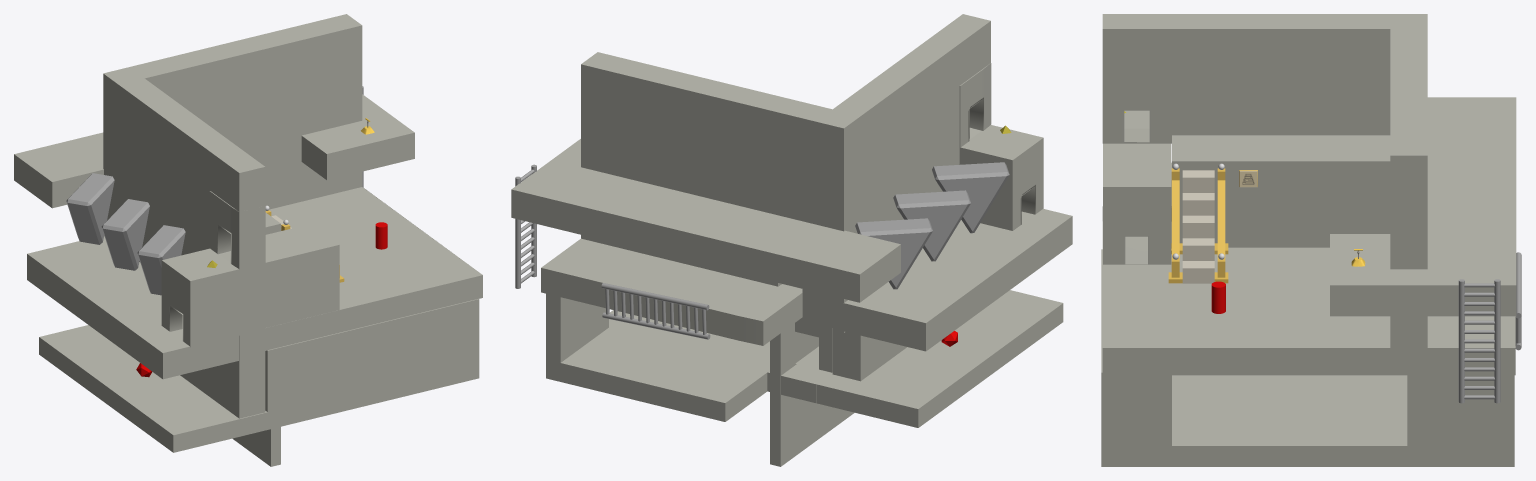
Rendered from stage003.fbx.
3 renders of one model, left to right at view 1: azimuth 30°, elevation 25°; view 2: azimuth 150°, elevation 25°; view 3: azimuth 270°, elevation 25°, orthographic. The views are drawn at different scales.
Parts seen in each view (by area): view 1: pCube11, pCube15, pCube7, pCube17, pCube8, pCube18, pPrism1, pPrism2, pPrism3, pCube1; view 2: pCube11, pCube15, pCube8, pCube17, pCube1, pCube7, pPrism3, pPrism1, pPrism2, pCube18, pCylinder66, pCylinder65; view 3: pCube11, pCube15, pCube8, pCube1, pCube7, pCube18, Stairs001_UV, pCylinder65, pCylinder66, ConnectionPillar_Right, ConnectionPillar_Left, player1.
Boxes of the visible parts, x1,y1,x2,y2 form: pCube11: [103, 14, 482, 418]; pCube15: [39, 298, 479, 452]; pCube7: [161, 224, 339, 347]; pCube17: [27, 236, 238, 379]; pCube8: [14, 94, 414, 208]; pCube18: [209, 191, 265, 269]; pPrism1: [101, 199, 149, 270]; pPrism2: [66, 173, 114, 244]; pPrism3: [137, 225, 185, 295]; pCube1: [232, 213, 280, 466]; pCube11: [541, 14, 990, 381]; pCube15: [546, 290, 1063, 427]; pCube8: [511, 139, 900, 302]; pCube17: [842, 209, 1072, 351]; pCube1: [770, 283, 854, 466]; pCube7: [959, 125, 1043, 230]; pPrism3: [932, 162, 1009, 233]; pPrism1: [893, 190, 970, 261]; pPrism2: [855, 218, 932, 289]; pCube18: [959, 63, 991, 147]; pCylinder66: [601, 283, 709, 310]; pCylinder65: [602, 312, 710, 339]; pCube11: [1102, 14, 1515, 375]; pCube15: [1101, 249, 1514, 466]; pCube8: [1330, 97, 1516, 316]; pCube1: [1172, 135, 1390, 247]; pCube7: [1103, 110, 1171, 264]; pCube18: [1102, 75, 1171, 143]; Stairs001_UV: [1182, 170, 1214, 283]; pCylinder65: [1458, 279, 1464, 403]; pCylinder66: [1494, 279, 1500, 403]; ConnectionPillar_Right: [1217, 180, 1225, 258]; ConnectionPillar_Left: [1172, 180, 1179, 258]; player1: [1211, 281, 1225, 313].
Bounding box in the file's own units: 45.35 × 40.75 × 39.45.
Materials: 8 (3 with a texture image).
